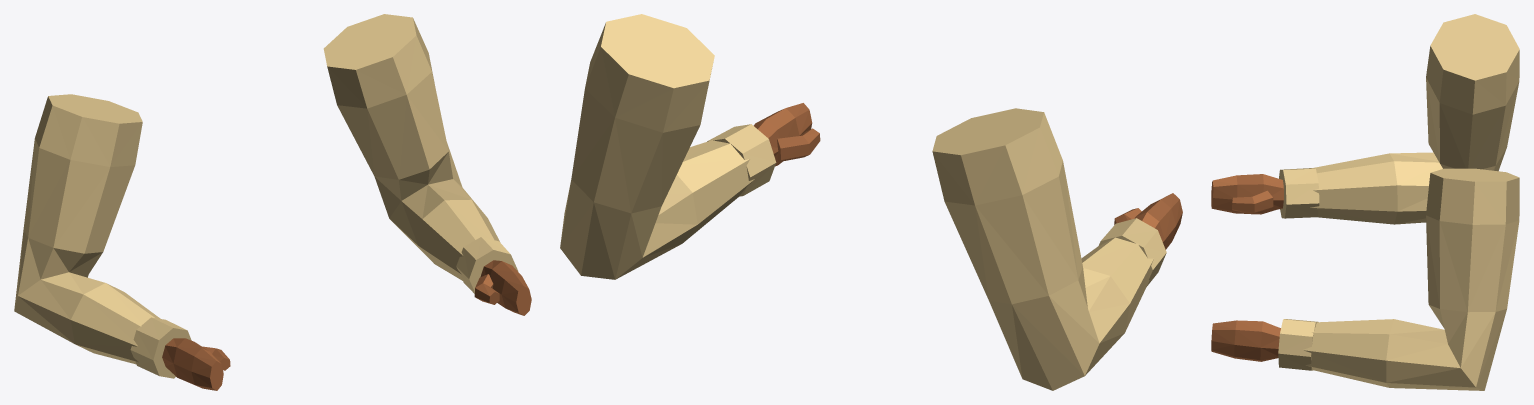
The model's file is EP_Arms_ChefCarry.fbx.
The picture shows the model from 3 angles, left to right: view 1: azimuth 30°, elevation 25°; view 2: azimuth 150°, elevation 25°; view 3: azimuth 270°, elevation 25°; orthographic projection. The views are drawn at different scales.
Parts seen in each view (by area): view 1: EP_Arms_ChefCarry; view 2: EP_Arms_ChefCarry; view 3: EP_Arms_ChefCarry.
Part boxes in pixels (box(x1,y1,x2,y2)): EP_Arms_ChefCarry: box(14, 14, 531, 390); EP_Arms_ChefCarry: box(560, 14, 1182, 390); EP_Arms_ChefCarry: box(1211, 14, 1519, 390).
Size of the model in its own units: 0.7222 by 0.3325 by 0.4548.
Materials: 2 (2 with a texture image).
